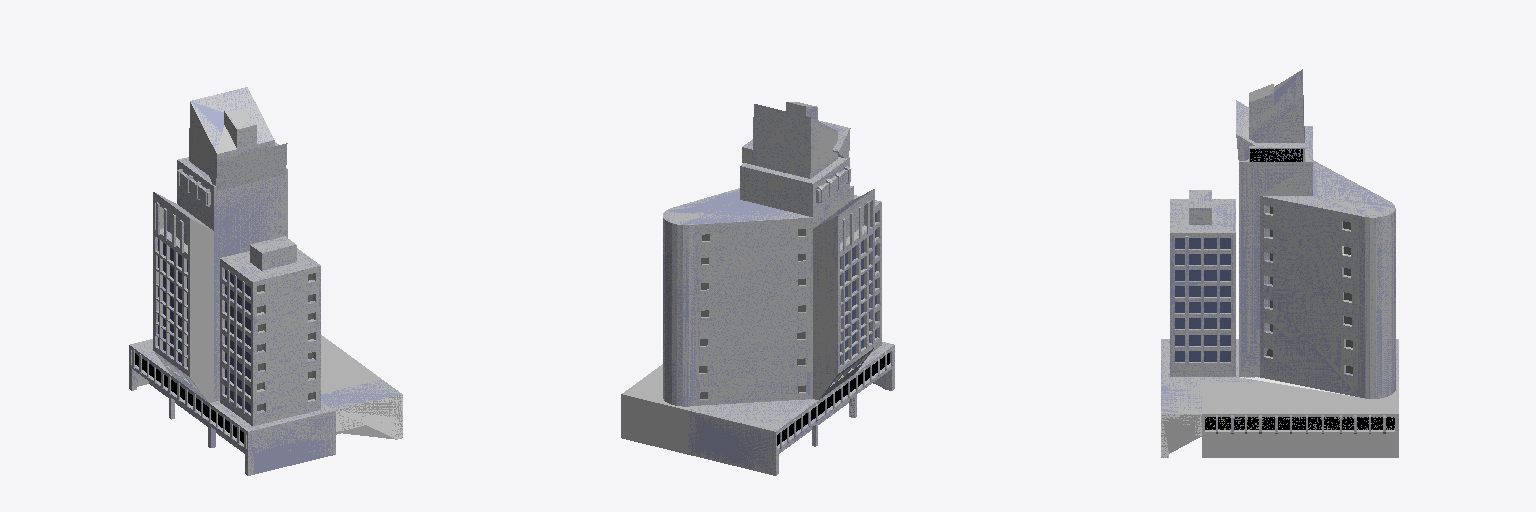
Rendered from Palat.obj.
3 renders of one model, left to right at view 1: azimuth 30°, elevation 25°; view 2: azimuth 150°, elevation 25°; view 3: azimuth 270°, elevation 25°, orthographic.
Visible parts, largest first — view 1: Mesh55 Model, Mesh56 Model; view 2: Mesh55 Model; view 3: Mesh55 Model, Mesh56 Model.
Boxes of the visible parts, x1=… form: Mesh55 Model: x1=129, y1=87, x2=402, y2=475; Mesh56 Model: x1=205, y1=143, x2=287, y2=190; Mesh55 Model: x1=621, y1=102, x2=894, y2=475; Mesh55 Model: x1=1161, y1=69, x2=1398, y2=457; Mesh56 Model: x1=1236, y1=100, x2=1255, y2=160.
Size of the model in its own units: 21.91 by 38.08 by 25.69.